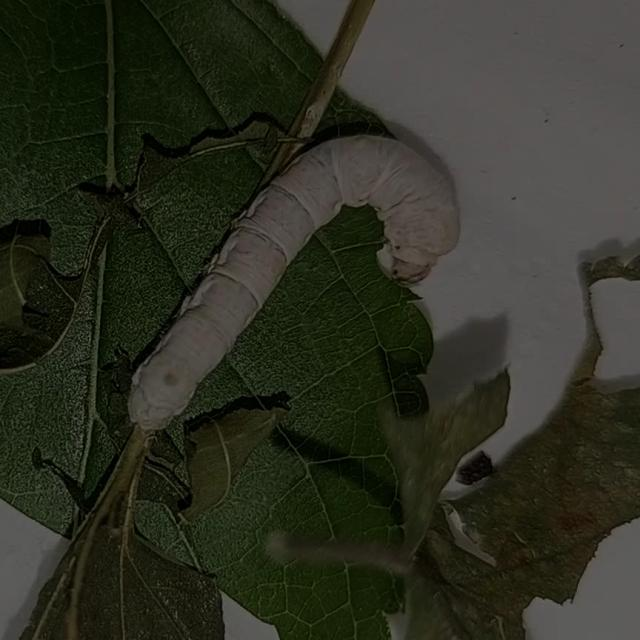Healthy: (102, 117, 518, 429)
